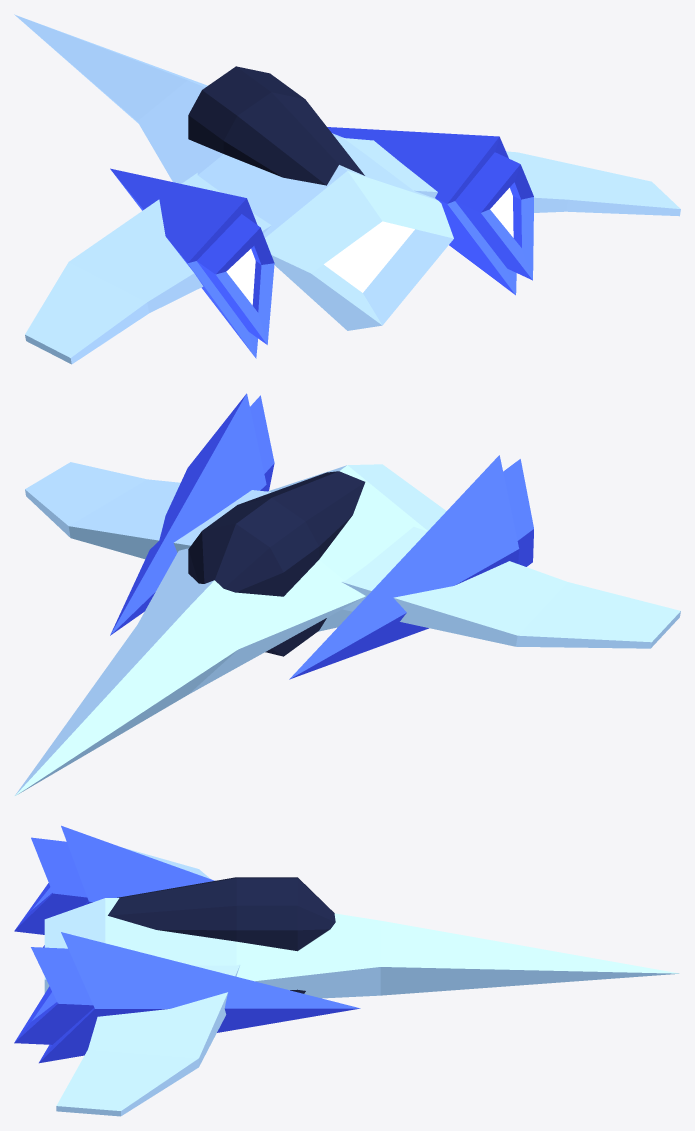
Rendered from fighter-player.glb.
3 renders of one model, top to bottom at view 1: azimuth 30°, elevation 25°; view 2: azimuth 150°, elevation 25°; view 3: azimuth 270°, elevation 25°, orthographic. The views are drawn at different scales.
Visible parts, largest first — view 1: PlayerMesh; view 2: PlayerMesh; view 3: PlayerMesh.
Part boxes in pixels (x1,y1,x2,y2): PlayerMesh: [14, 14, 680, 364]; PlayerMesh: [14, 393, 680, 796]; PlayerMesh: [14, 825, 679, 1116].
Size of the model in its own units: 9.52 by 2.66 by 10.16.
